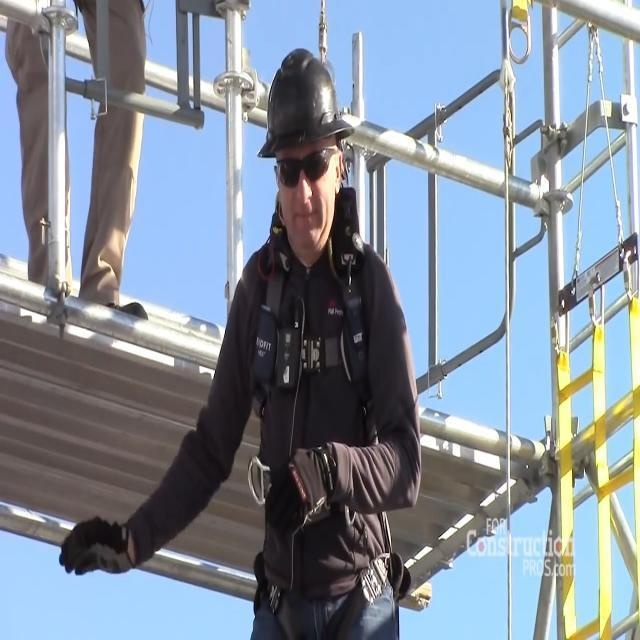Arnes_seguridad: (251, 133, 419, 640)
